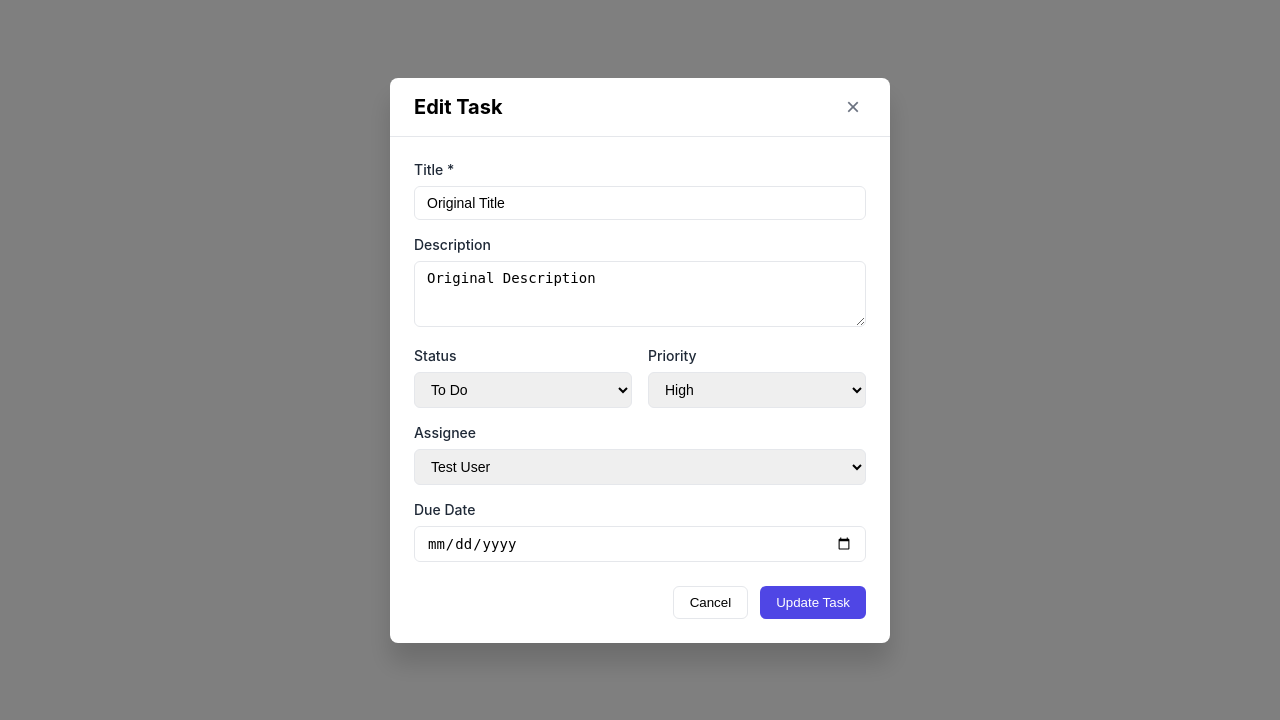
TaskForm › should show status transition error for invalid workflow change
The width and height of the screenshot is (1280, 720).
Select "Done" in the dropdown with test id "form-status-input": (523, 390) [414,372,632,408]
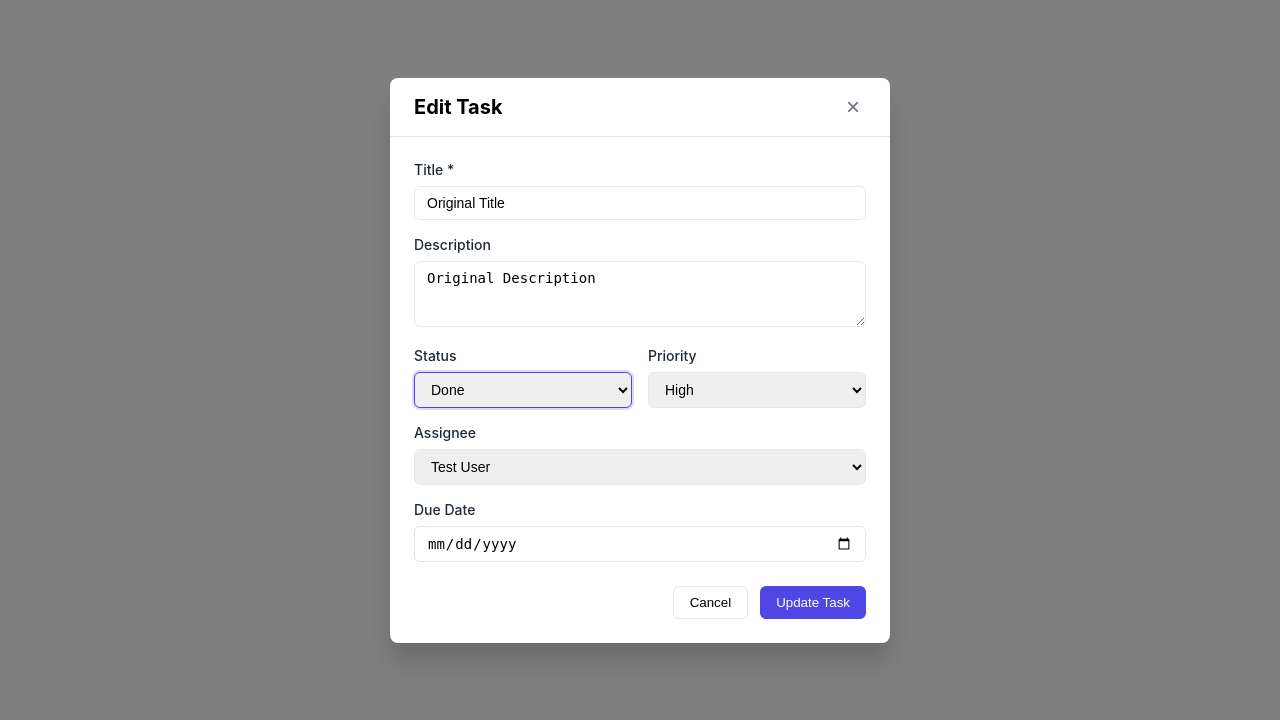
Click the button with test id "form-submit-button": click(813, 602) [760,586,866,618]
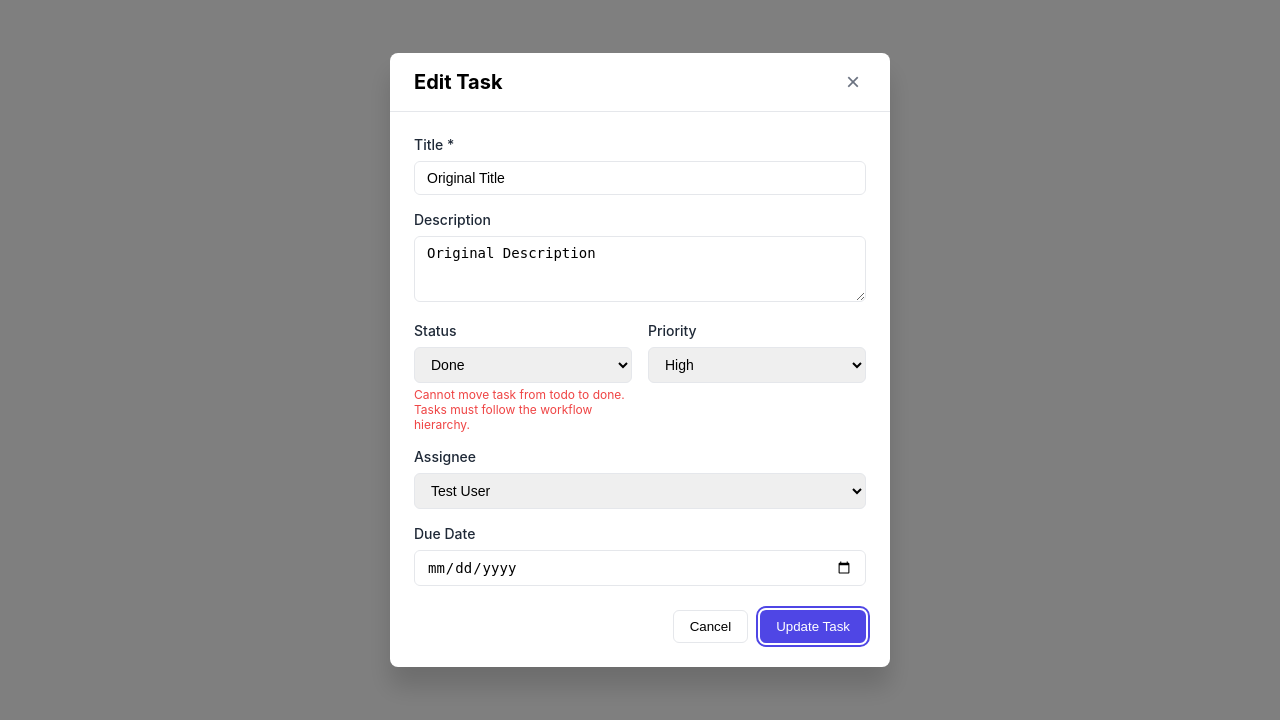
Now the message "Cannot move task from todo to done. Tasks must follow the workflow hierarchy." is shown, box [414,387,632,432]
Now the message with test id "form-status-error" shows "Cannot move task", box [414,387,625,432]
